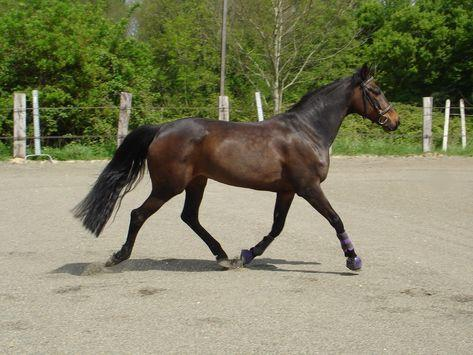horse: (70, 61, 400, 271)
